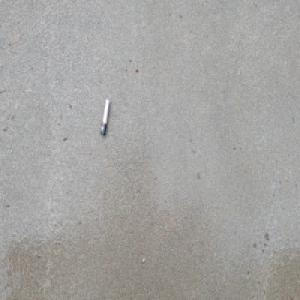Battery: (99, 97, 109, 137)
